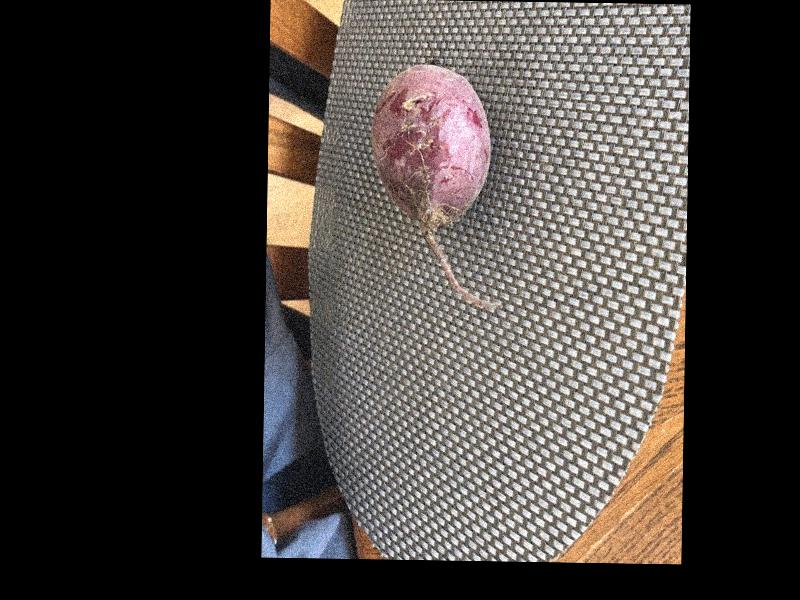Beet: (367, 66, 505, 309)
